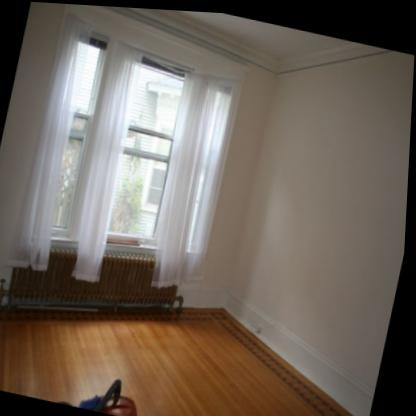Window: (106, 58, 188, 249), (39, 33, 107, 227), (179, 81, 233, 247)
